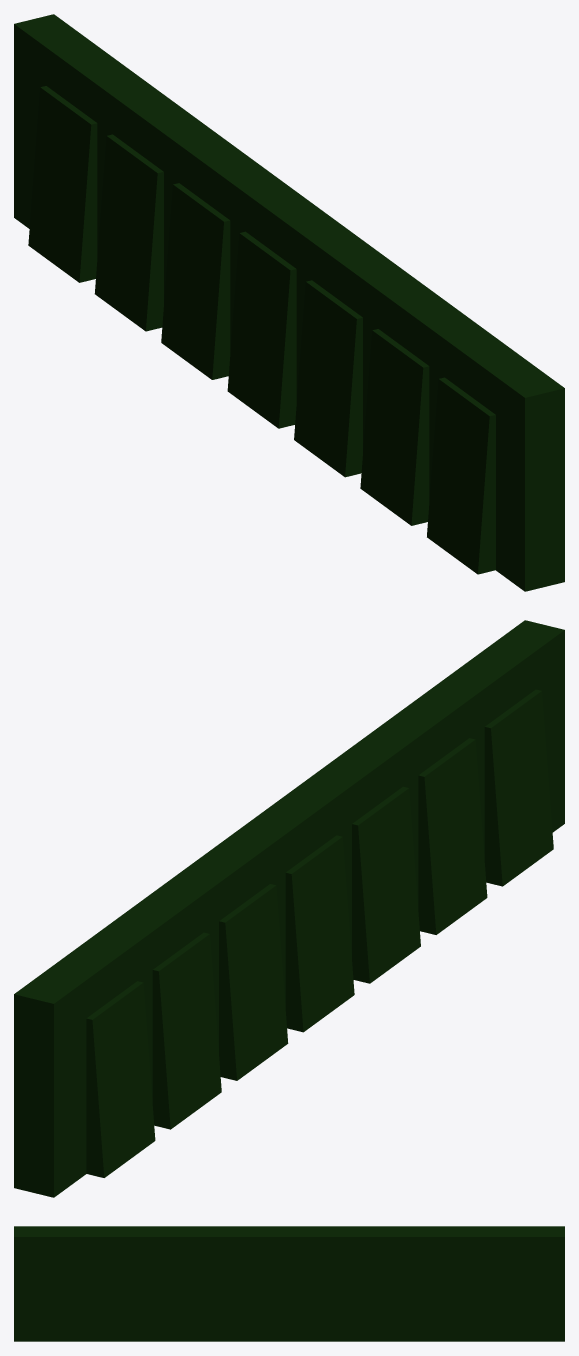
File: wall-base3.fbx
3 renders of one model, top to bottom at view 1: azimuth 30°, elevation 25°; view 2: azimuth 150°, elevation 25°; view 3: azimuth 270°, elevation 25°, orthographic. The views are drawn at different scales.
Visible parts, largest first — view 1: wall-base3; view 2: wall-base3; view 3: wall-base3.
Part boxes in pixels (left/top/right/bottom): wall-base3: left=14, top=14, right=564, bottom=591; wall-base3: left=14, top=620, right=564, bottom=1197; wall-base3: left=14, top=1226, right=564, bottom=1341.
Bounding box in the file's own units: 0.9758 × 3.12 × 14.9.
